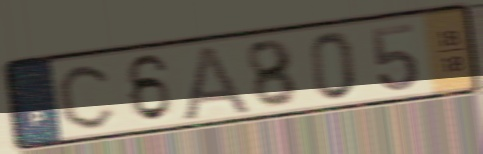0: (305, 27, 360, 103)
5: (367, 21, 421, 93)
6: (124, 52, 174, 125)
8: (244, 37, 300, 110)
A: (177, 41, 255, 124)
C: (55, 61, 119, 132)
